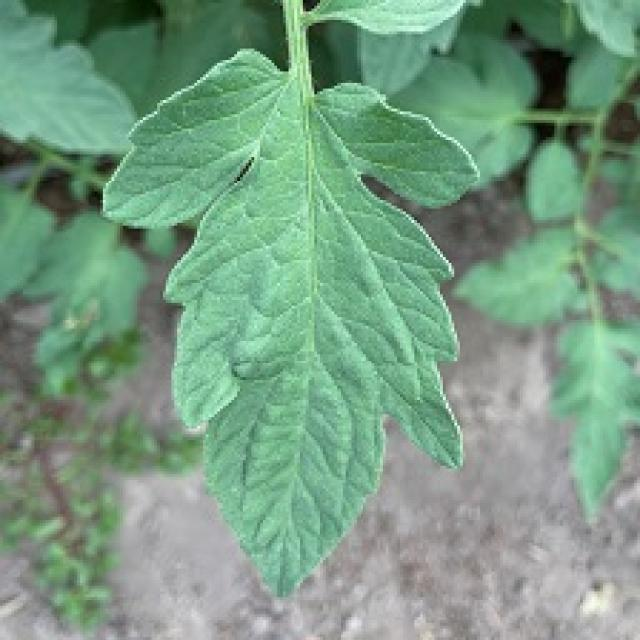Healthy: (0, 0, 611, 603)
